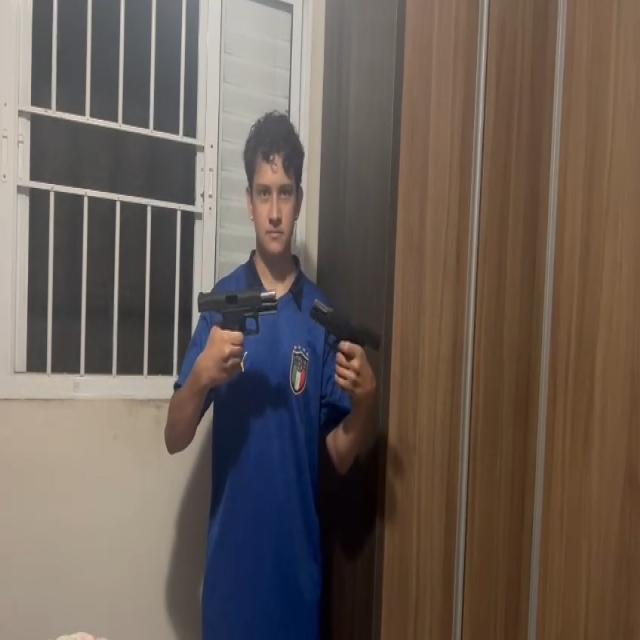gun: (311, 298, 382, 358), (197, 290, 279, 333)
